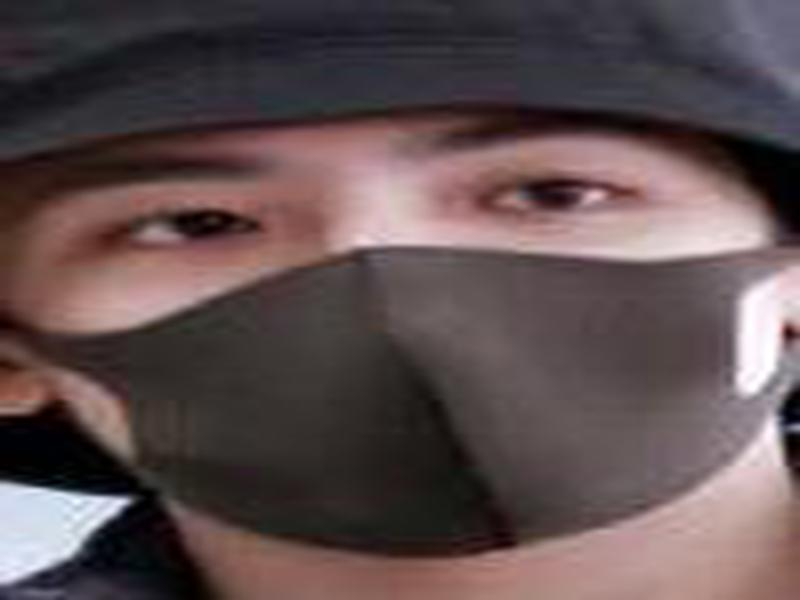with_mask: (1, 110, 796, 579)
